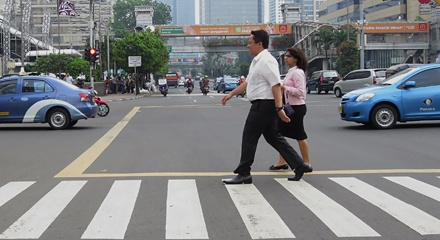trafficlight: (89, 48, 96, 64)
zebracross: (8, 170, 430, 236)
